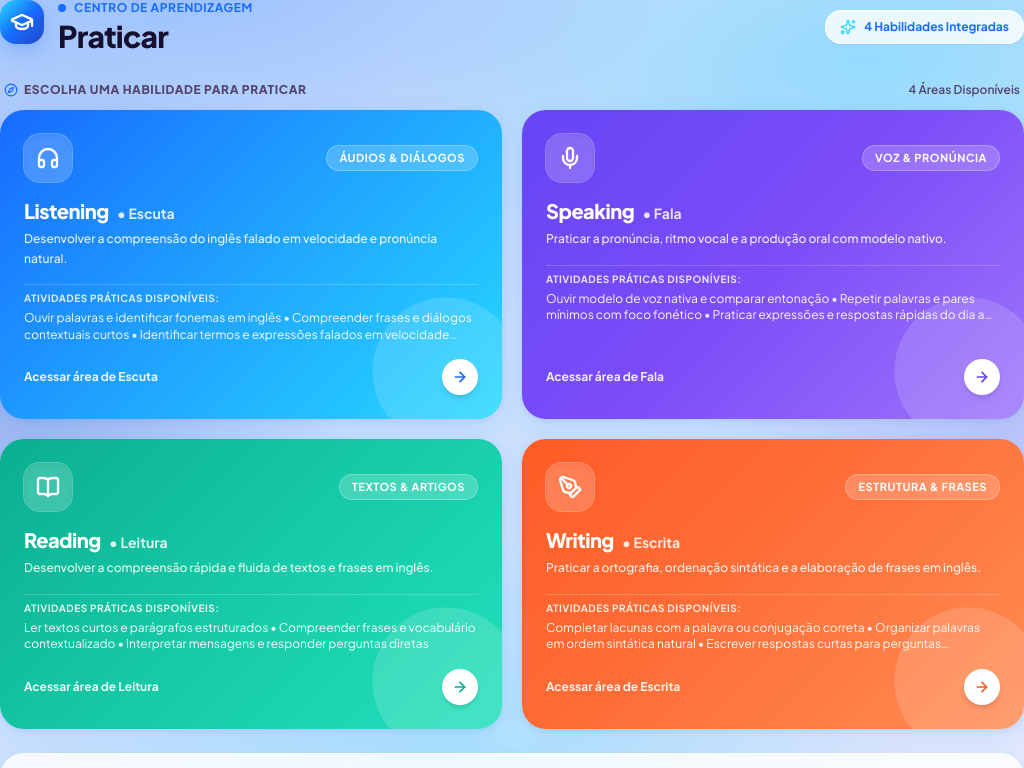
Scenario: PracticeView & 4 English Skills Hub › navigates to the Listening skill area and presents the Listening activities hub
Click the button with aria-label "Acessar área de prática de Listening" at (251, 264), box x1=0 y1=110 x2=502 y2=419
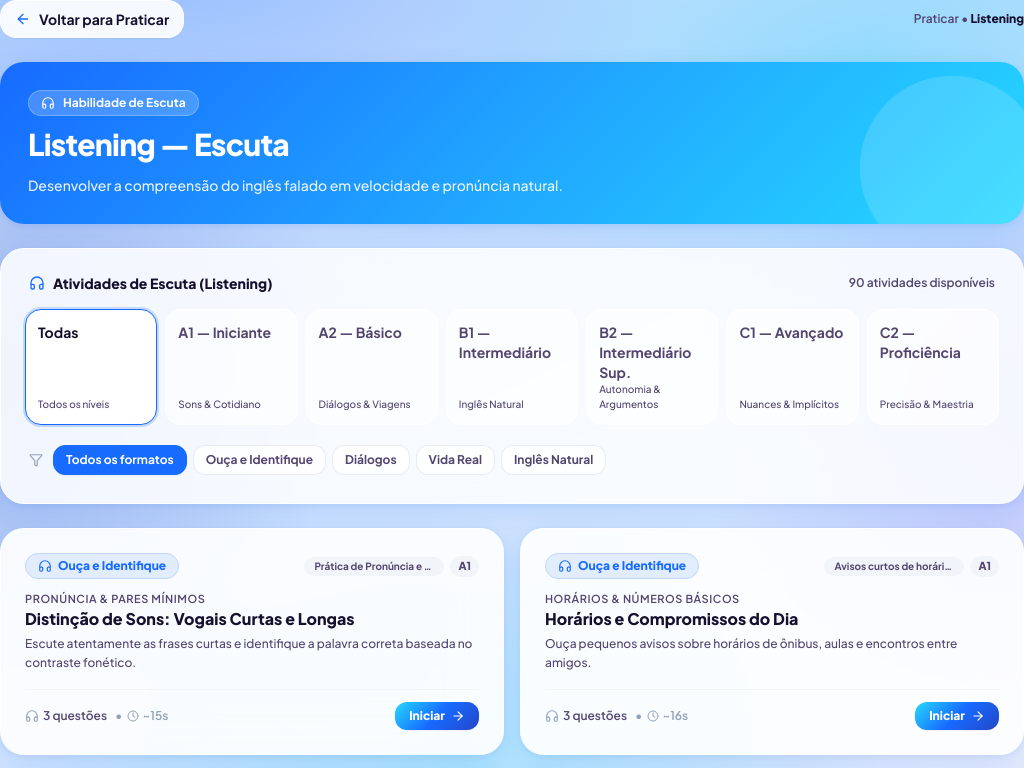
Check: the button "Voltar para Praticar" is shown
Check: the heading "Listening — Escuta" is shown, box x1=28 y1=125 x2=289 y2=163
Check: the heading "Atividades de Escuta (Listening)" is shown, box x1=53 y1=273 x2=273 y2=293
Return back to hub
Click the button "Voltar para Praticar" at (92, 19), box x1=0 y1=0 x2=184 y2=38
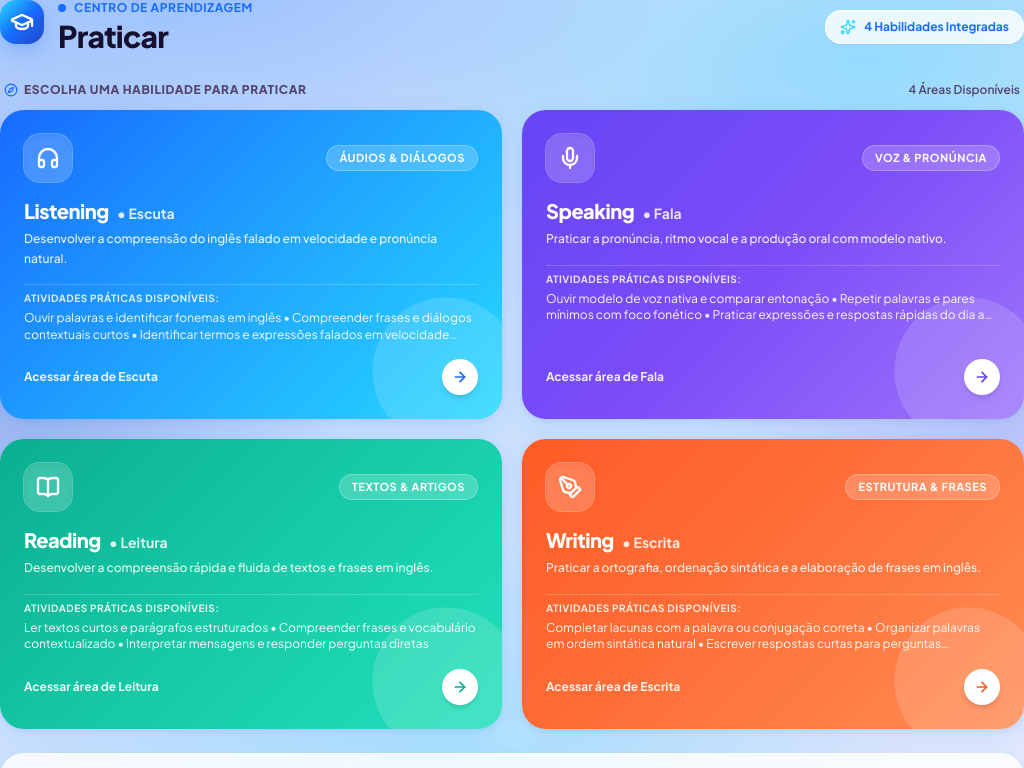
Check: the heading "Praticar" is shown, box x1=58 y1=17 x2=168 y2=55
